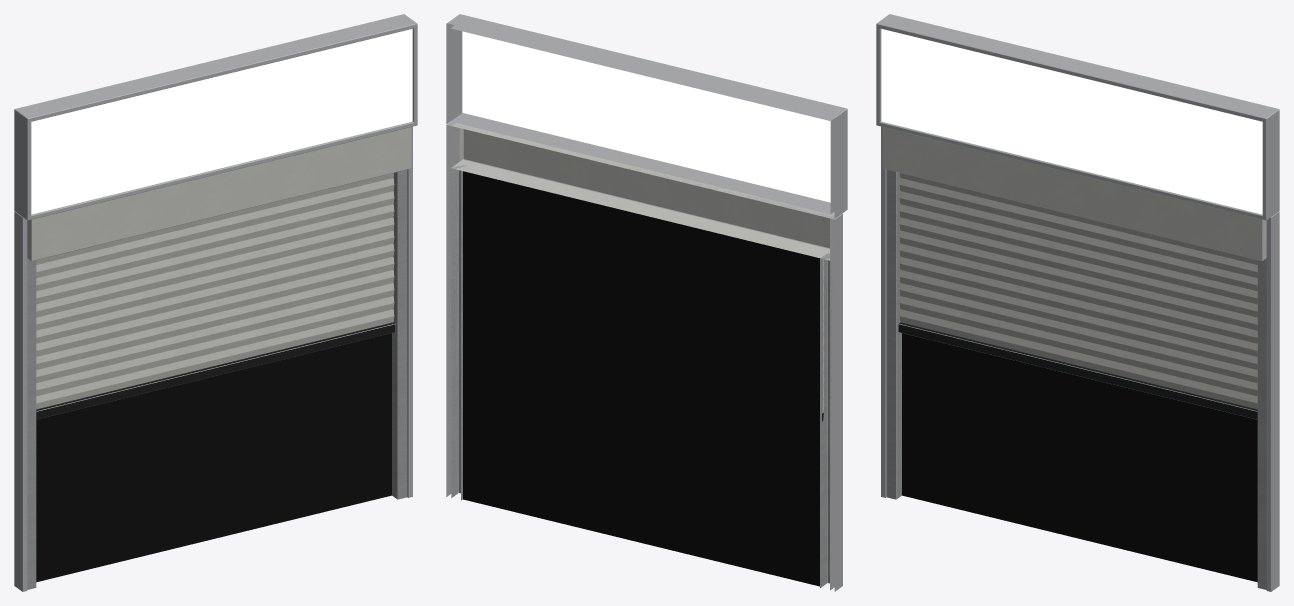
File: gteki_shopfront_shutter_w2400_half.glb
3 renders of one model, left to right at view 1: azimuth 30°, elevation 25°; view 2: azimuth 150°, elevation 25°; view 3: azimuth 330°, elevation 25°, orthographic.
Parts seen in each view (by area): view 1: VIS_backing, VIS_curtain, VIS_art, VIS_frame, VIS_panels, VIS_fascia; view 2: VIS_backing, VIS_art, VIS_panels, VIS_fascia, VIS_frame; view 3: VIS_backing, VIS_curtain, VIS_art, VIS_frame, VIS_panels, VIS_fascia.
Part boxes in pixels (left/top/right/bottom): VIS_backing: left=36, top=333, right=391, bottom=582; VIS_curtain: left=36, top=173, right=394, bottom=409; VIS_art: left=31, top=29, right=412, bottom=214; VIS_frame: left=14, top=126, right=412, bottom=591; VIS_panels: left=27, top=127, right=411, bottom=261; VIS_fascia: left=14, top=14, right=417, bottom=220; VIS_backing: left=463, top=171, right=819, bottom=586; VIS_art: left=462, top=31, right=830, bottom=202; VIS_panels: left=451, top=123, right=834, bottom=260; VIS_fascia: left=446, top=14, right=847, bottom=218; VIS_frame: left=446, top=122, right=842, bottom=591; VIS_backing: left=902, top=333, right=1257, bottom=582; VIS_curtain: left=899, top=173, right=1257, bottom=409; VIS_art: left=881, top=29, right=1262, bottom=214; VIS_frame: left=881, top=126, right=1279, bottom=591; VIS_panels: left=882, top=127, right=1266, bottom=261; VIS_fascia: left=876, top=14, right=1279, bottom=220.
Bounding box in the file's own units: 2.4 × 2.8 × 0.14.
Materials: 6 (2 with a texture image).
